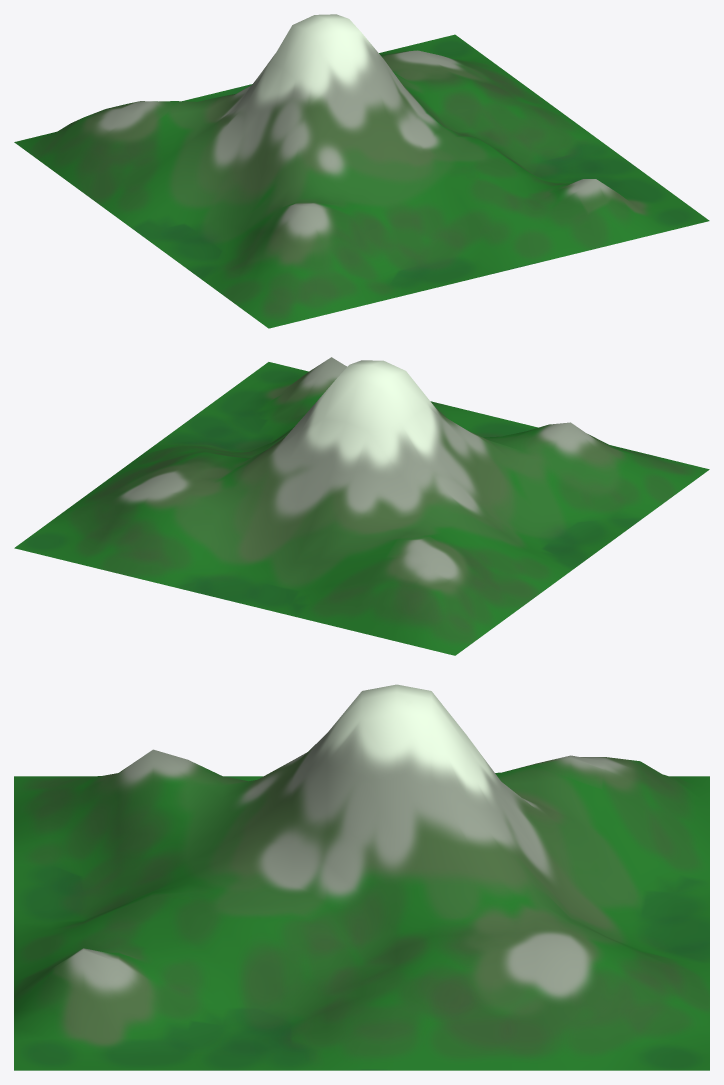
The model's file is mountain.obj.
3 views of the same model, one above another, from view 1: azimuth 30°, elevation 25°; view 2: azimuth 150°, elevation 25°; view 3: azimuth 270°, elevation 25° (orthographic). The views are drawn at different scales.
Visible parts, largest first — view 1: Grid; view 2: Grid; view 3: Grid.
Boxes of the visible parts, left/top/right/bottom form: Grid: left=14, top=14, right=709, bottom=328; Grid: left=14, top=357, right=709, bottom=655; Grid: left=14, top=684, right=709, bottom=1070.
Bounding box in the file's own units: 128 × 43.83 × 128.
Materials: 1 (1 with a texture image).
